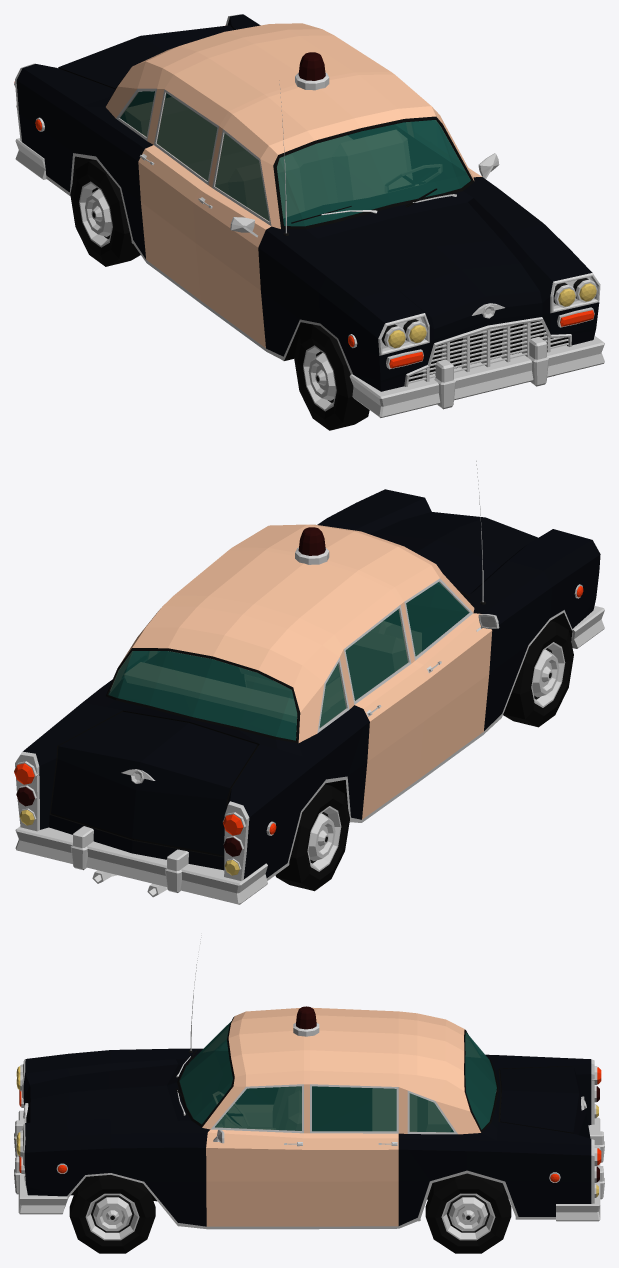
File: PoliceCar_03.FBX
3 views of the same model, one above another, from view 1: azimuth 30°, elevation 25°; view 2: azimuth 150°, elevation 25°; view 3: azimuth 270°, elevation 25° (orthographic). The views are drawn at different scales.
Visible parts, largest first — view 1: PoliceCar_03, interior, bumper_f, wheel_f_r, wheel_b_r, grill, lights, headLights, bumper_b, signalLight; view 2: PoliceCar_03, interior, bumper_b, wheel_b_r, wheel_f_r, lights, bumper_f, signalLight; view 3: PoliceCar_03, interior, wheel_b_l, wheel_f_l, bumper_f, bumper_b, lights.
Part boxes in pixels (x1,y1,x2,y2): PoliceCar_03: [15, 14, 600, 391]; interior: [120, 91, 470, 225]; bumper_f: [349, 336, 604, 417]; wheel_f_r: [294, 325, 369, 430]; wheel_b_r: [70, 160, 140, 266]; grill: [408, 321, 568, 383]; lights: [14, 72, 597, 369]; headLights: [388, 283, 596, 347]; bumper_b: [15, 138, 46, 179]; signalLight: [298, 52, 325, 80]; PoliceCar_03: [15, 489, 600, 880]; interior: [109, 582, 468, 740]; bumper_b: [15, 826, 267, 904]; wheel_b_r: [275, 784, 349, 891]; wheel_f_r: [503, 621, 573, 727]; lights: [14, 547, 582, 875]; bumper_f: [571, 606, 604, 648]; signalLight: [298, 527, 325, 555]; PoliceCar_03: [22, 1007, 594, 1229]; interior: [180, 1022, 496, 1131]; wheel_b_l: [425, 1173, 511, 1253]; wheel_f_l: [69, 1175, 155, 1253]; bumper_f: [14, 1110, 67, 1214]; bumper_b: [556, 1117, 604, 1221]; lights: [20, 1023, 597, 1197].
Size of the model in its own units: 24.64 by 26.28 by 59.09.
